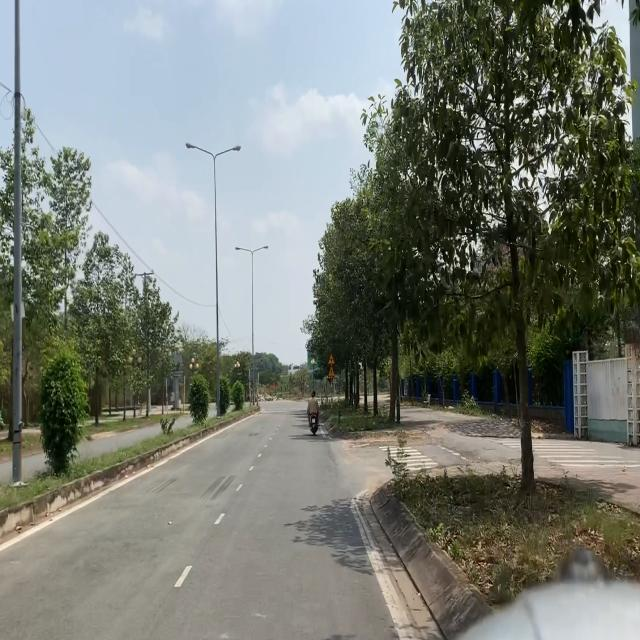Duong giao nhau: (328, 353, 335, 365)
Nguoi di bo cat ngang: (328, 366, 335, 378)
